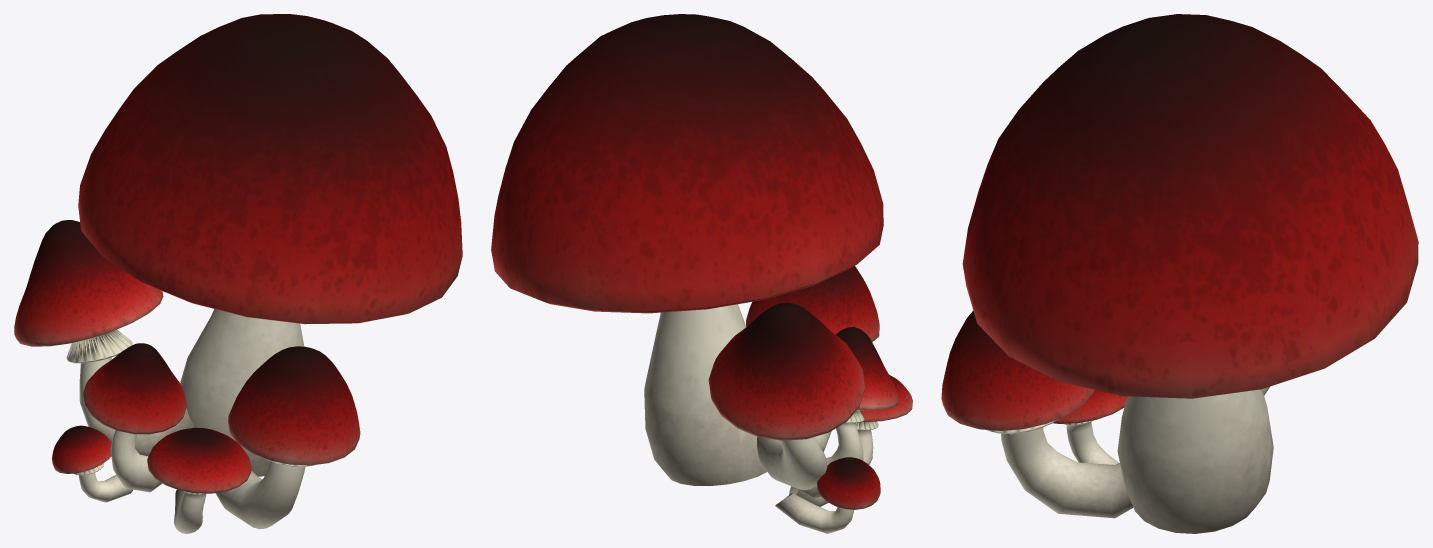
Rendered from RedMushbunchTry2.fbx.
3 renders of one model, left to right at view 1: azimuth 30°, elevation 25°; view 2: azimuth 150°, elevation 25°; view 3: azimuth 270°, elevation 25°, orthographic. The views are drawn at different scales.
Parts seen in each view (by area): view 1: muschroom4st1, muschroom5, mushroom7, mushroom8, mushroom9, pSphere4; view 2: muschroom4st1, mushroom7, muschroom5, pSphere4, mushroom8, mushroom9; view 3: muschroom4st1, muschroom5, mushroom9.
Boxes of the visible parts, <box> form: muschroom4st1: <box>78,14,462,476</box>; muschroom5: <box>215,346,360,529</box>; mushroom7: <box>14,220,194,456</box>; mushroom8: <box>83,343,186,492</box>; mushroom9: <box>147,427,251,533</box>; pSphere4: <box>52,425,133,502</box>; muschroom4st1: <box>491,14,883,485</box>; mushroom7: <box>708,302,864,490</box>; muschroom5: <box>746,266,879,451</box>; pSphere4: <box>775,457,880,533</box>; mushroom8: <box>794,327,898,498</box>; mushroom9: <box>789,375,912,506</box>; muschroom4st1: <box>962,14,1418,533</box>; muschroom5: <box>941,311,1133,518</box>; mushroom9: <box>1053,390,1127,464</box>.
Bounding box in the file's own units: 22.33 × 26.12 × 21.1.
Materials: 1 (1 with a texture image).
